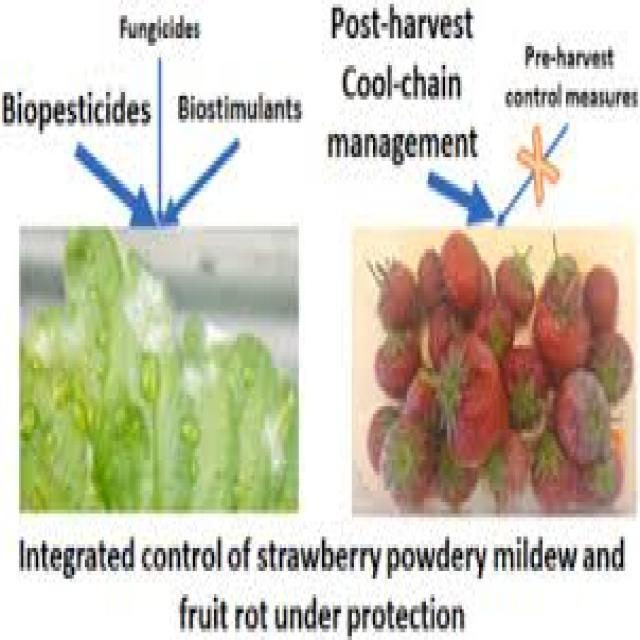Oído: (372, 404, 428, 507), (554, 373, 612, 463), (540, 256, 596, 341)
